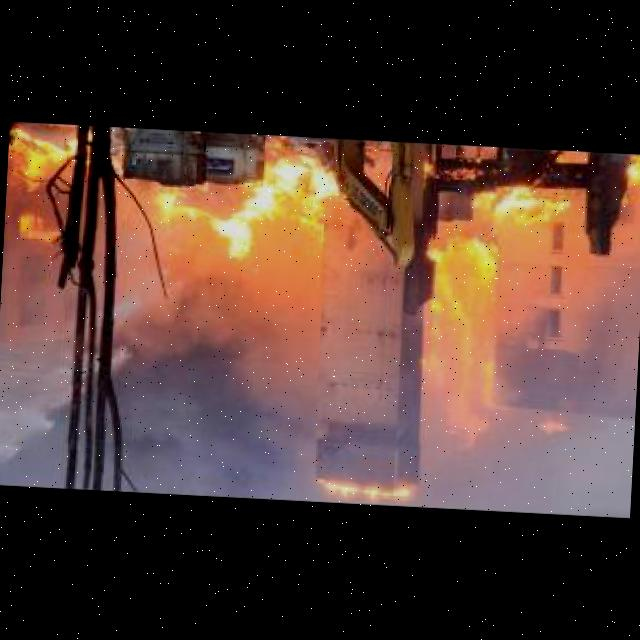fire: (158, 139, 354, 265), (12, 144, 78, 200), (303, 479, 422, 505), (13, 214, 70, 257)
